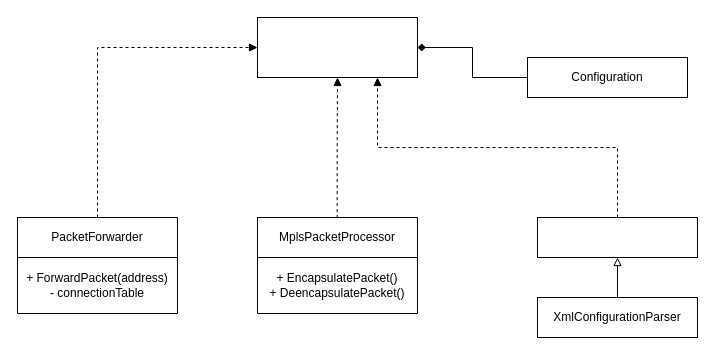
Image size: 715x355. Some labels were removed from this diagram. Here are the shapes that lost their labels. From the top down, the centre of each, then its label:
At pixel 337 47: "CableCloud".
At pixel 617 237: "<<interface>> IConfigurationParser".
